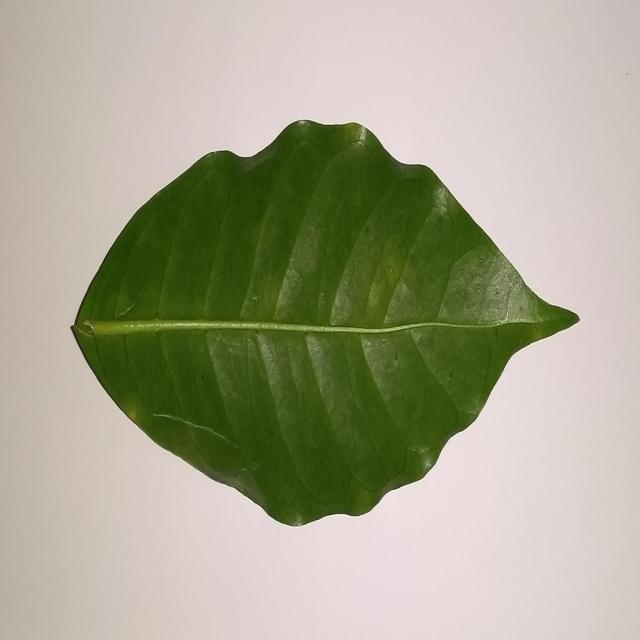nodisease: (71, 121, 579, 526)
